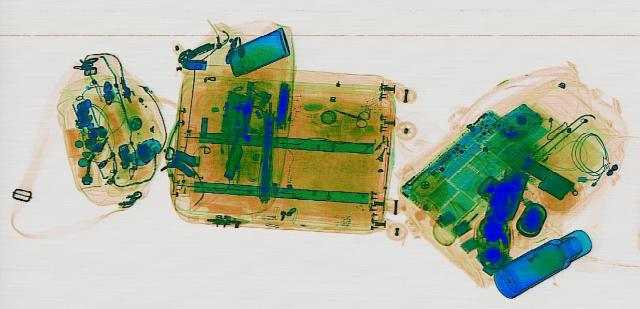Scissors: (325, 103, 383, 126)
